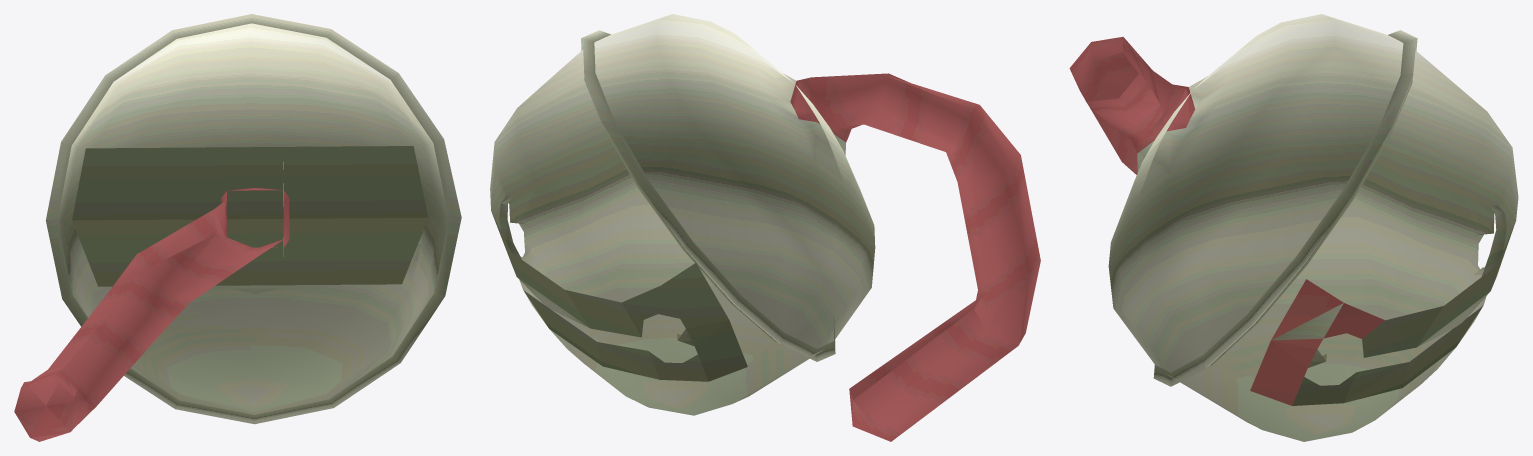
Rendered from ps2_save-icons_never7-originalrelease.glb.
3 views of the same model, side by side, from view 1: azimuth 30°, elevation 25°; view 2: azimuth 150°, elevation 25°; view 3: azimuth 270°, elevation 25° (orthographic). The views are drawn at different scales.
Visible parts, largest first — view 1: cube.ico; view 2: cube.ico; view 3: cube.ico.
Part boxes in pixels (x1=…): cube.ico: x1=14, y1=14, x2=461, y2=441; cube.ico: x1=490, y1=14, x2=1040, y2=441; cube.ico: x1=1069, y1=14, x2=1518, y2=441.
Bounding box in the file's own units: 4.79 × 3.61 × 3.8.
1 material, 1 textured.
